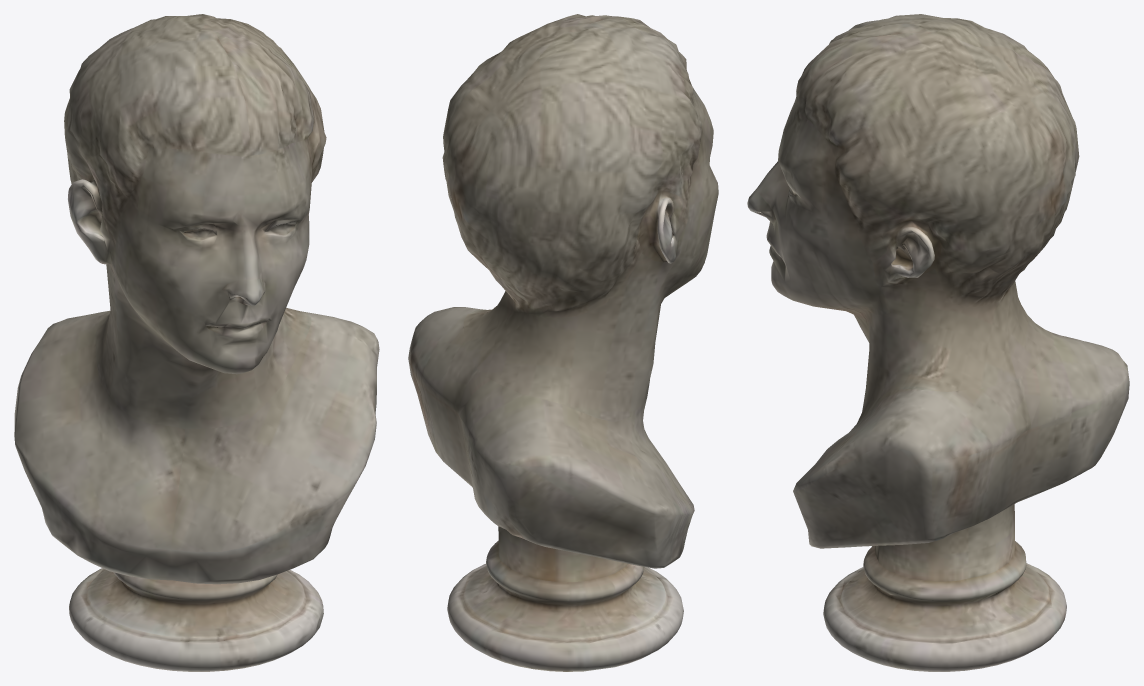
The model's file is marble_bust.glb.
3 renders of one model, left to right at view 1: azimuth 30°, elevation 25°; view 2: azimuth 150°, elevation 25°; view 3: azimuth 270°, elevation 25°, orthographic. The views are drawn at different scales.
Parts seen in each view (by area): view 1: marble_bust_01; view 2: marble_bust_01; view 3: marble_bust_01.
Part boxes in pixels (box(x1,y1,x2,y2)): marble_bust_01: box(14, 14, 379, 671); marble_bust_01: box(408, 14, 718, 671); marble_bust_01: box(747, 14, 1129, 671).
Size of the model in its own units: 0.2718 by 0.5149 by 0.2997.
1 material, 1 textured.
